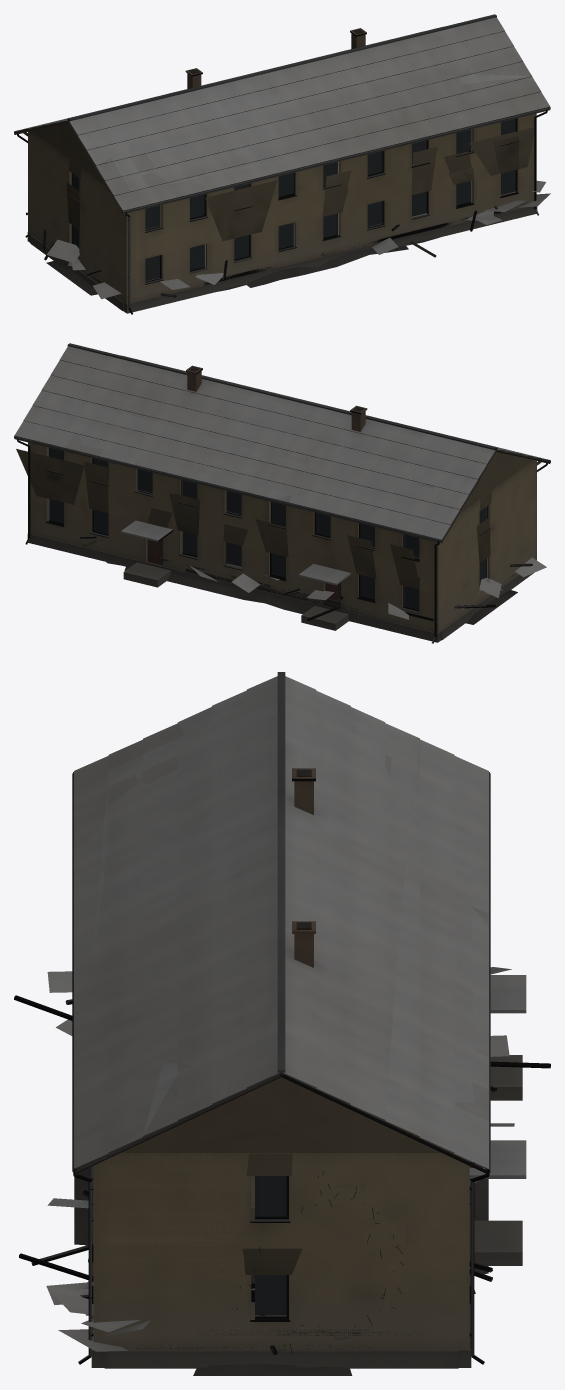
The model's file is ph_barrack.glb.
The picture shows the model from 3 angles, top to bottom: view 1: azimuth 30°, elevation 25°; view 2: azimuth 150°, elevation 25°; view 3: azimuth 270°, elevation 25°; orthographic projection. The views are drawn at different scales.
Parts seen in each view (by area): view 1: barrack_s0, barrack_s1f, barrack_s2, barrack_sruin, barrack_s1g; view 2: barrack_s0, barrack_s1f, barrack_s1g, barrack_sruin, barrack_s2; view 3: barrack_s0, barrack_s2, barrack_s1g, barrack_s1f, barrack_sruin.
Part boxes in pixels (left/top/right/bottom): barrack_s0: left=14, top=14, right=550, bottom=314; barrack_s1f: left=14, top=31, right=531, bottom=307; barrack_s2: left=34, top=48, right=544, bottom=241; barrack_sruin: left=26, top=180, right=550, bottom=299; barrack_s1g: left=27, top=31, right=534, bottom=290; barrack_s0: left=14, top=343, right=550, bottom=643; barrack_s1f: left=16, top=361, right=550, bottom=588; barrack_s1g: left=26, top=381, right=547, bottom=520; barrack_sruin: left=79, top=535, right=546, bottom=629; barrack_s2: left=16, top=362, right=530, bottom=587; barrack_s0: left=72, top=672, right=526, bottom=1368; barrack_s2: left=104, top=1152, right=488, bottom=1354; barrack_s1g: left=93, top=726, right=488, bottom=1152; barrack_s1f: left=74, top=723, right=488, bottom=1274; barrack_sruin: left=14, top=967, right=550, bottom=1375.
Size of the model in its own units: 26.1 by 9.82 by 14.26.
1 material, 1 textured.
